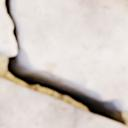brick: (0, 78, 124, 127)
broken_brick: (15, 0, 127, 113), (0, 0, 14, 56)
crack: (2, 0, 127, 127)
